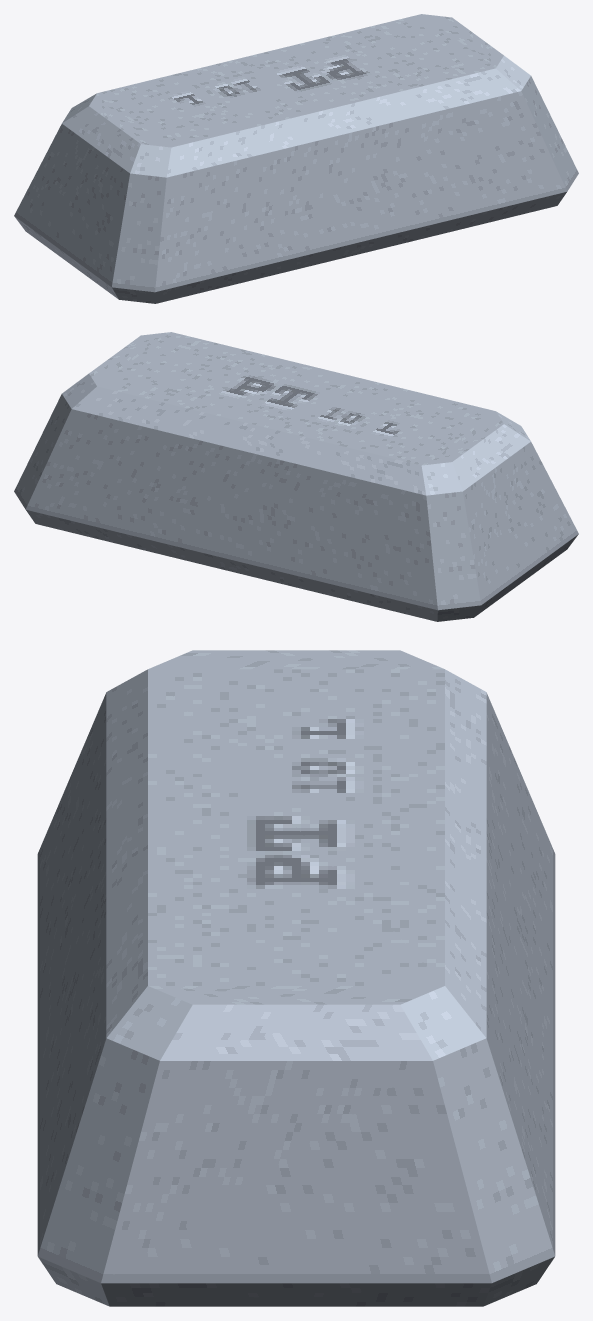
File: 10l_platinum.glb
3 renders of one model, top to bottom at view 1: azimuth 30°, elevation 25°; view 2: azimuth 150°, elevation 25°; view 3: azimuth 270°, elevation 25°, orthographic. The views are drawn at different scales.
Parts seen in each view (by area): view 1: block_one-piece cast ingot; view 2: block_one-piece cast ingot; view 3: block_one-piece cast ingot.
Boxes of the visible parts, left/top/right/bottom form: block_one-piece cast ingot: left=14, top=14, right=578, bottom=303; block_one-piece cast ingot: left=14, top=332, right=578, bottom=621; block_one-piece cast ingot: left=37, top=650, right=555, bottom=1306.
Bounding box in the file's own units: 0.39 × 0.1038 × 0.1871.
1 material, 1 textured.
